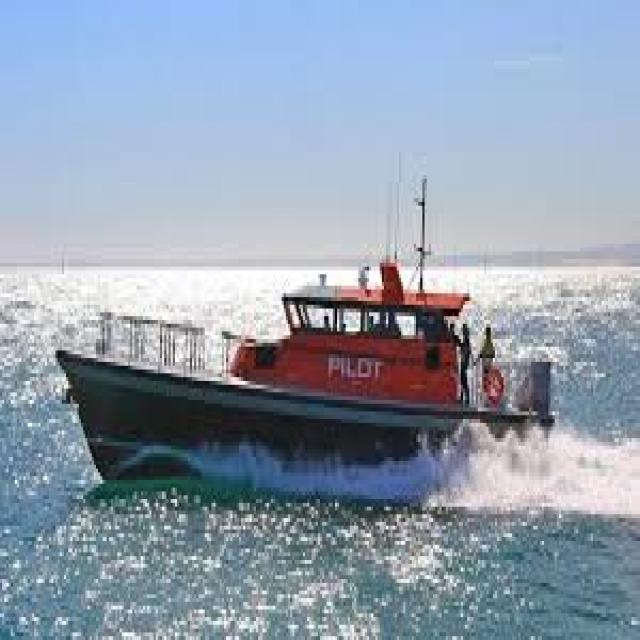houseboat: (54, 182, 552, 496)
